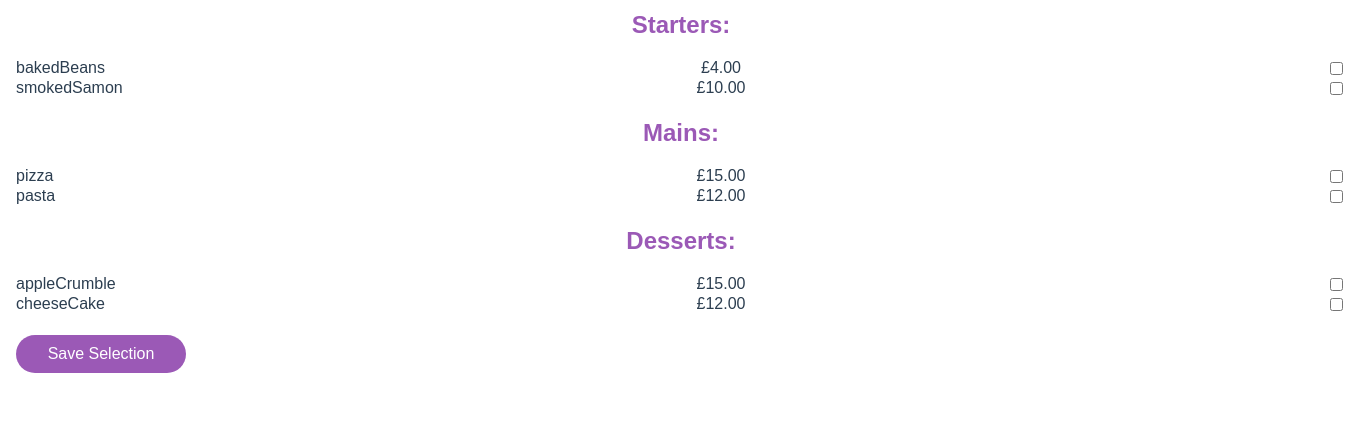
Scenario: Menu › should render the Total when an item has been selected
Click the checkbox with test id "bakedBeans-checkbox" at (1336, 68), box [1330,62,1343,75]
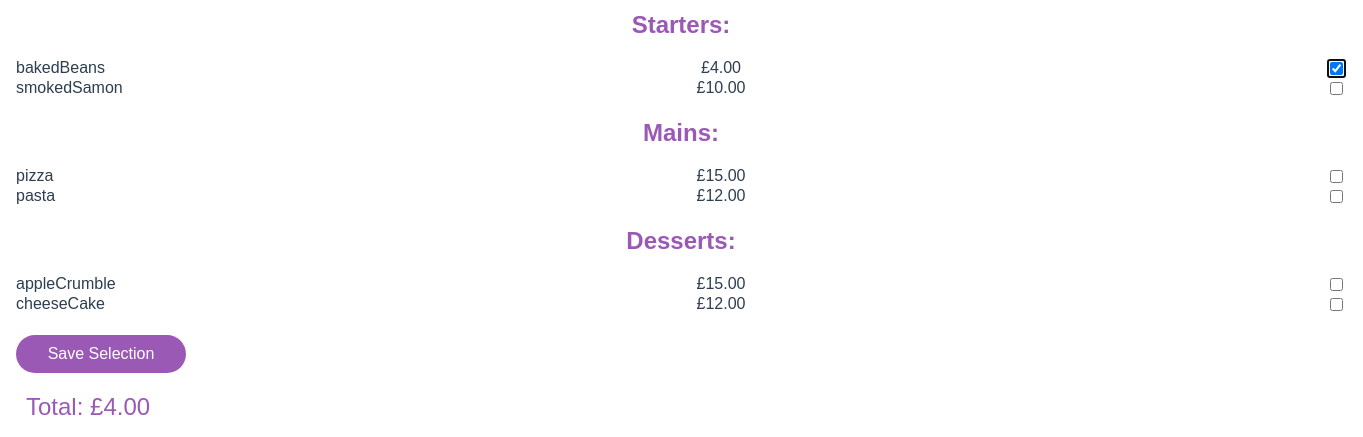
Expected: the text with test id "total" reads "Total: £4.00", [26,393,150,420]
